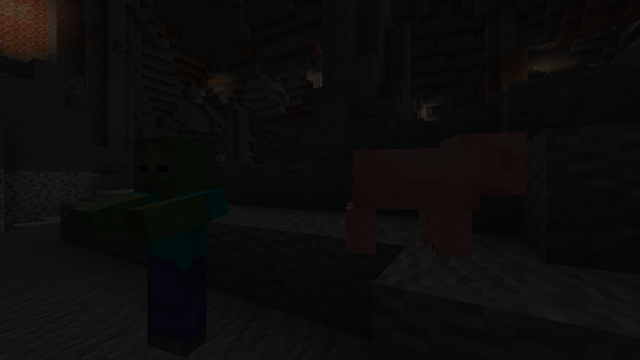cochons: (343, 140, 462, 268)
zombies: (127, 140, 222, 357)
